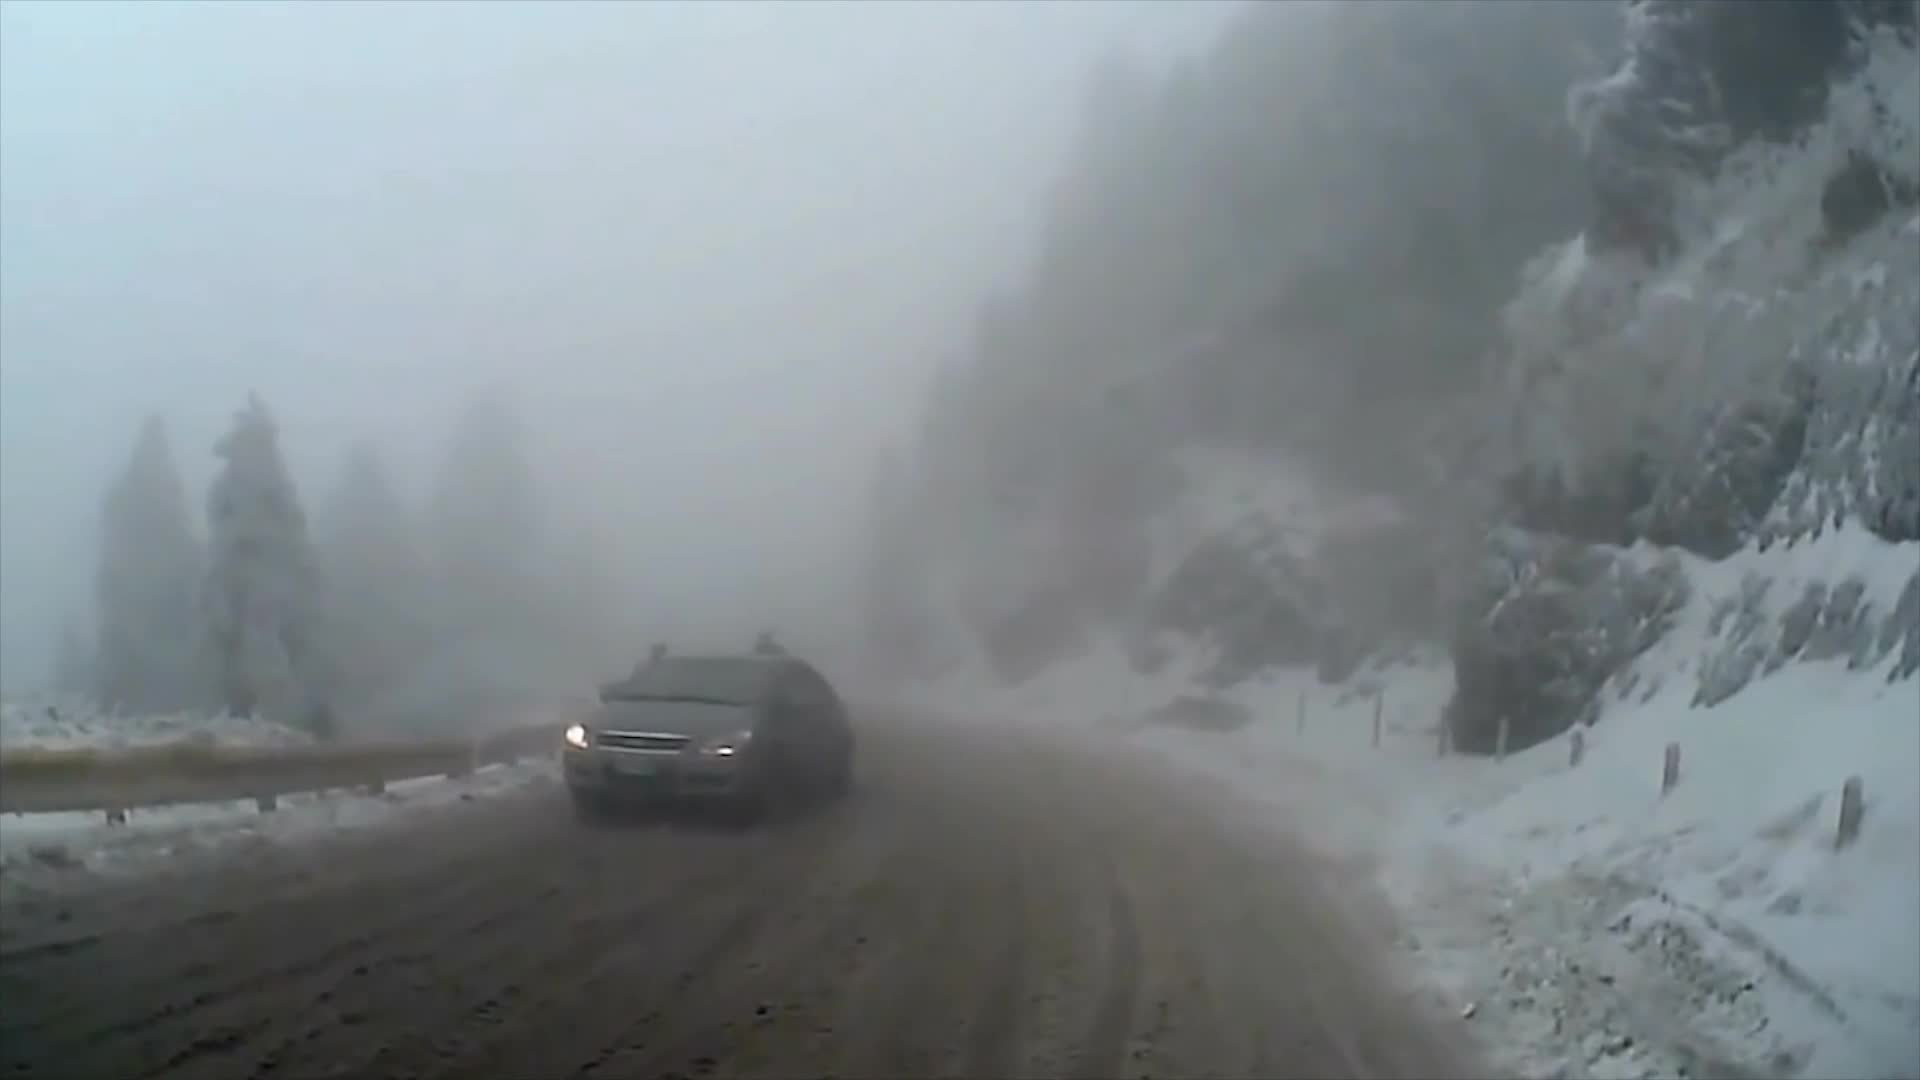vehicle: (560, 649, 853, 829)
